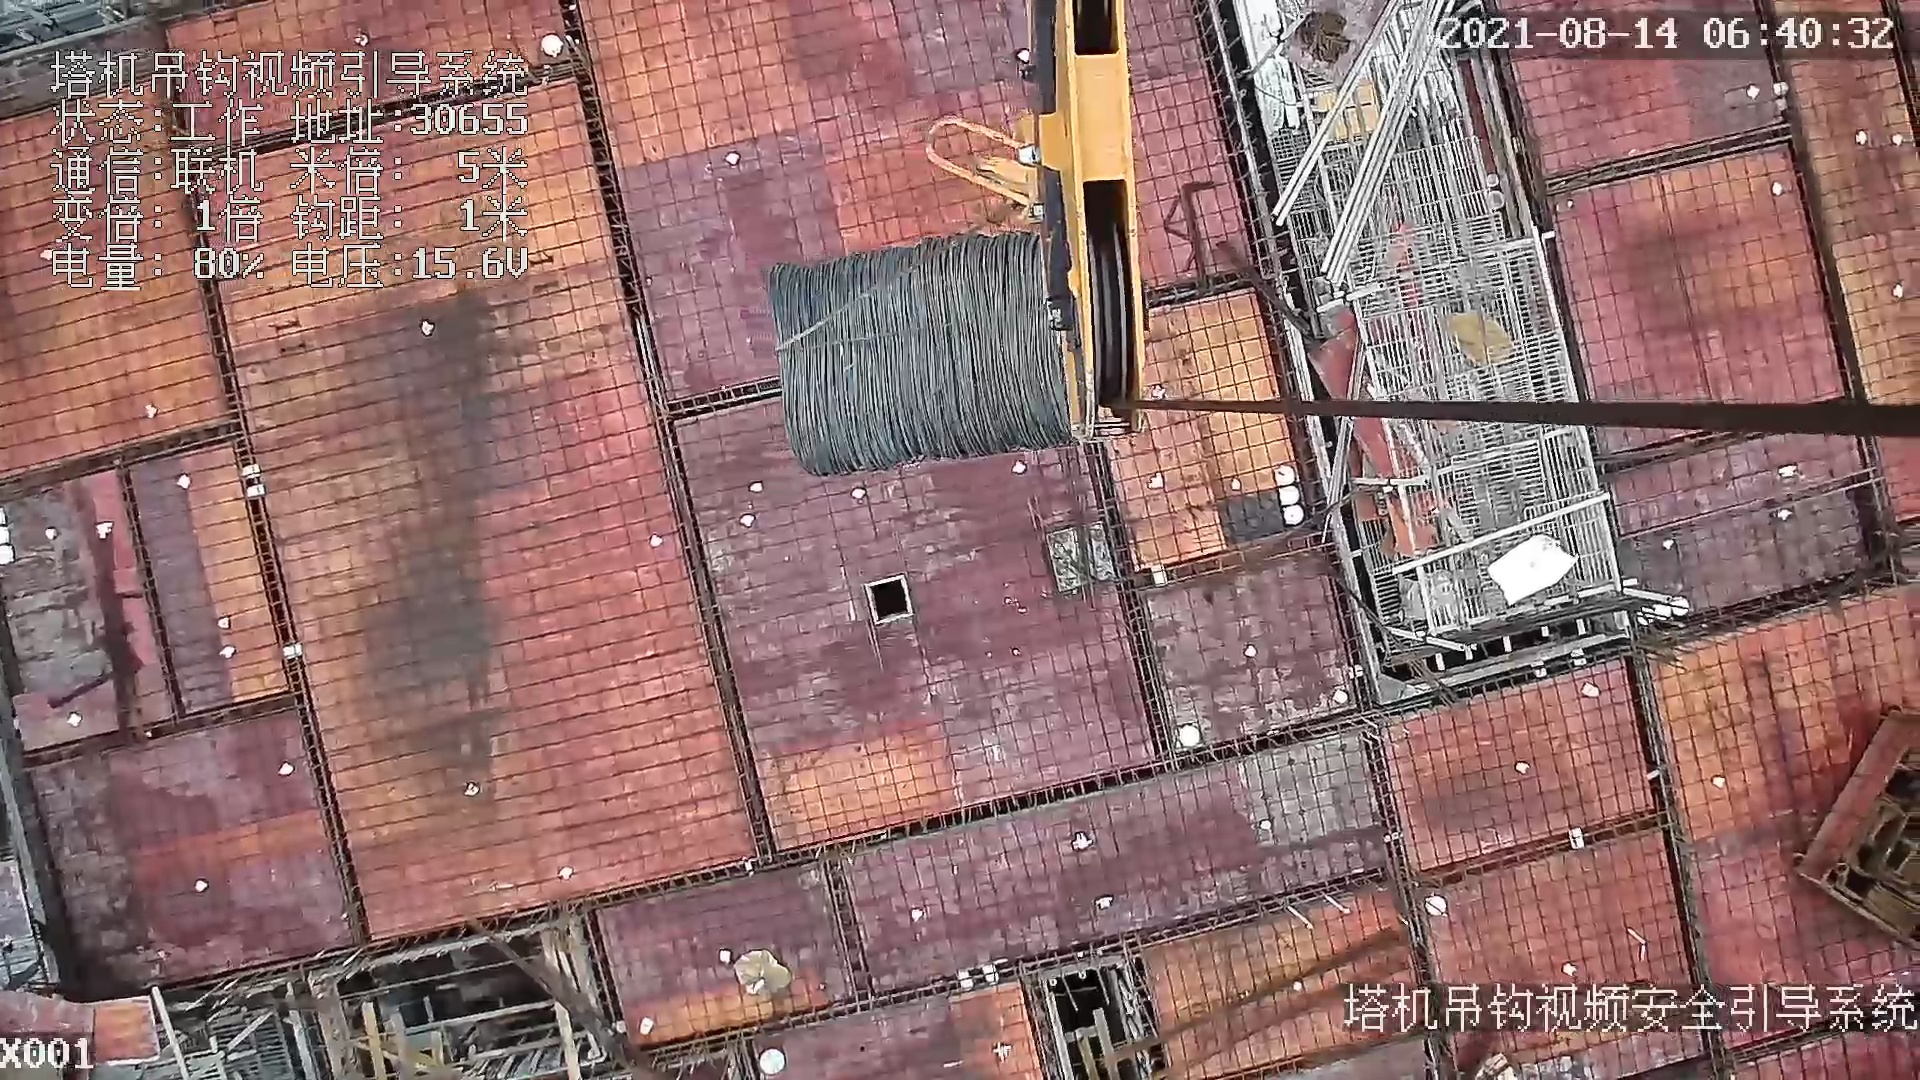hook: (923, 1, 1149, 436)
